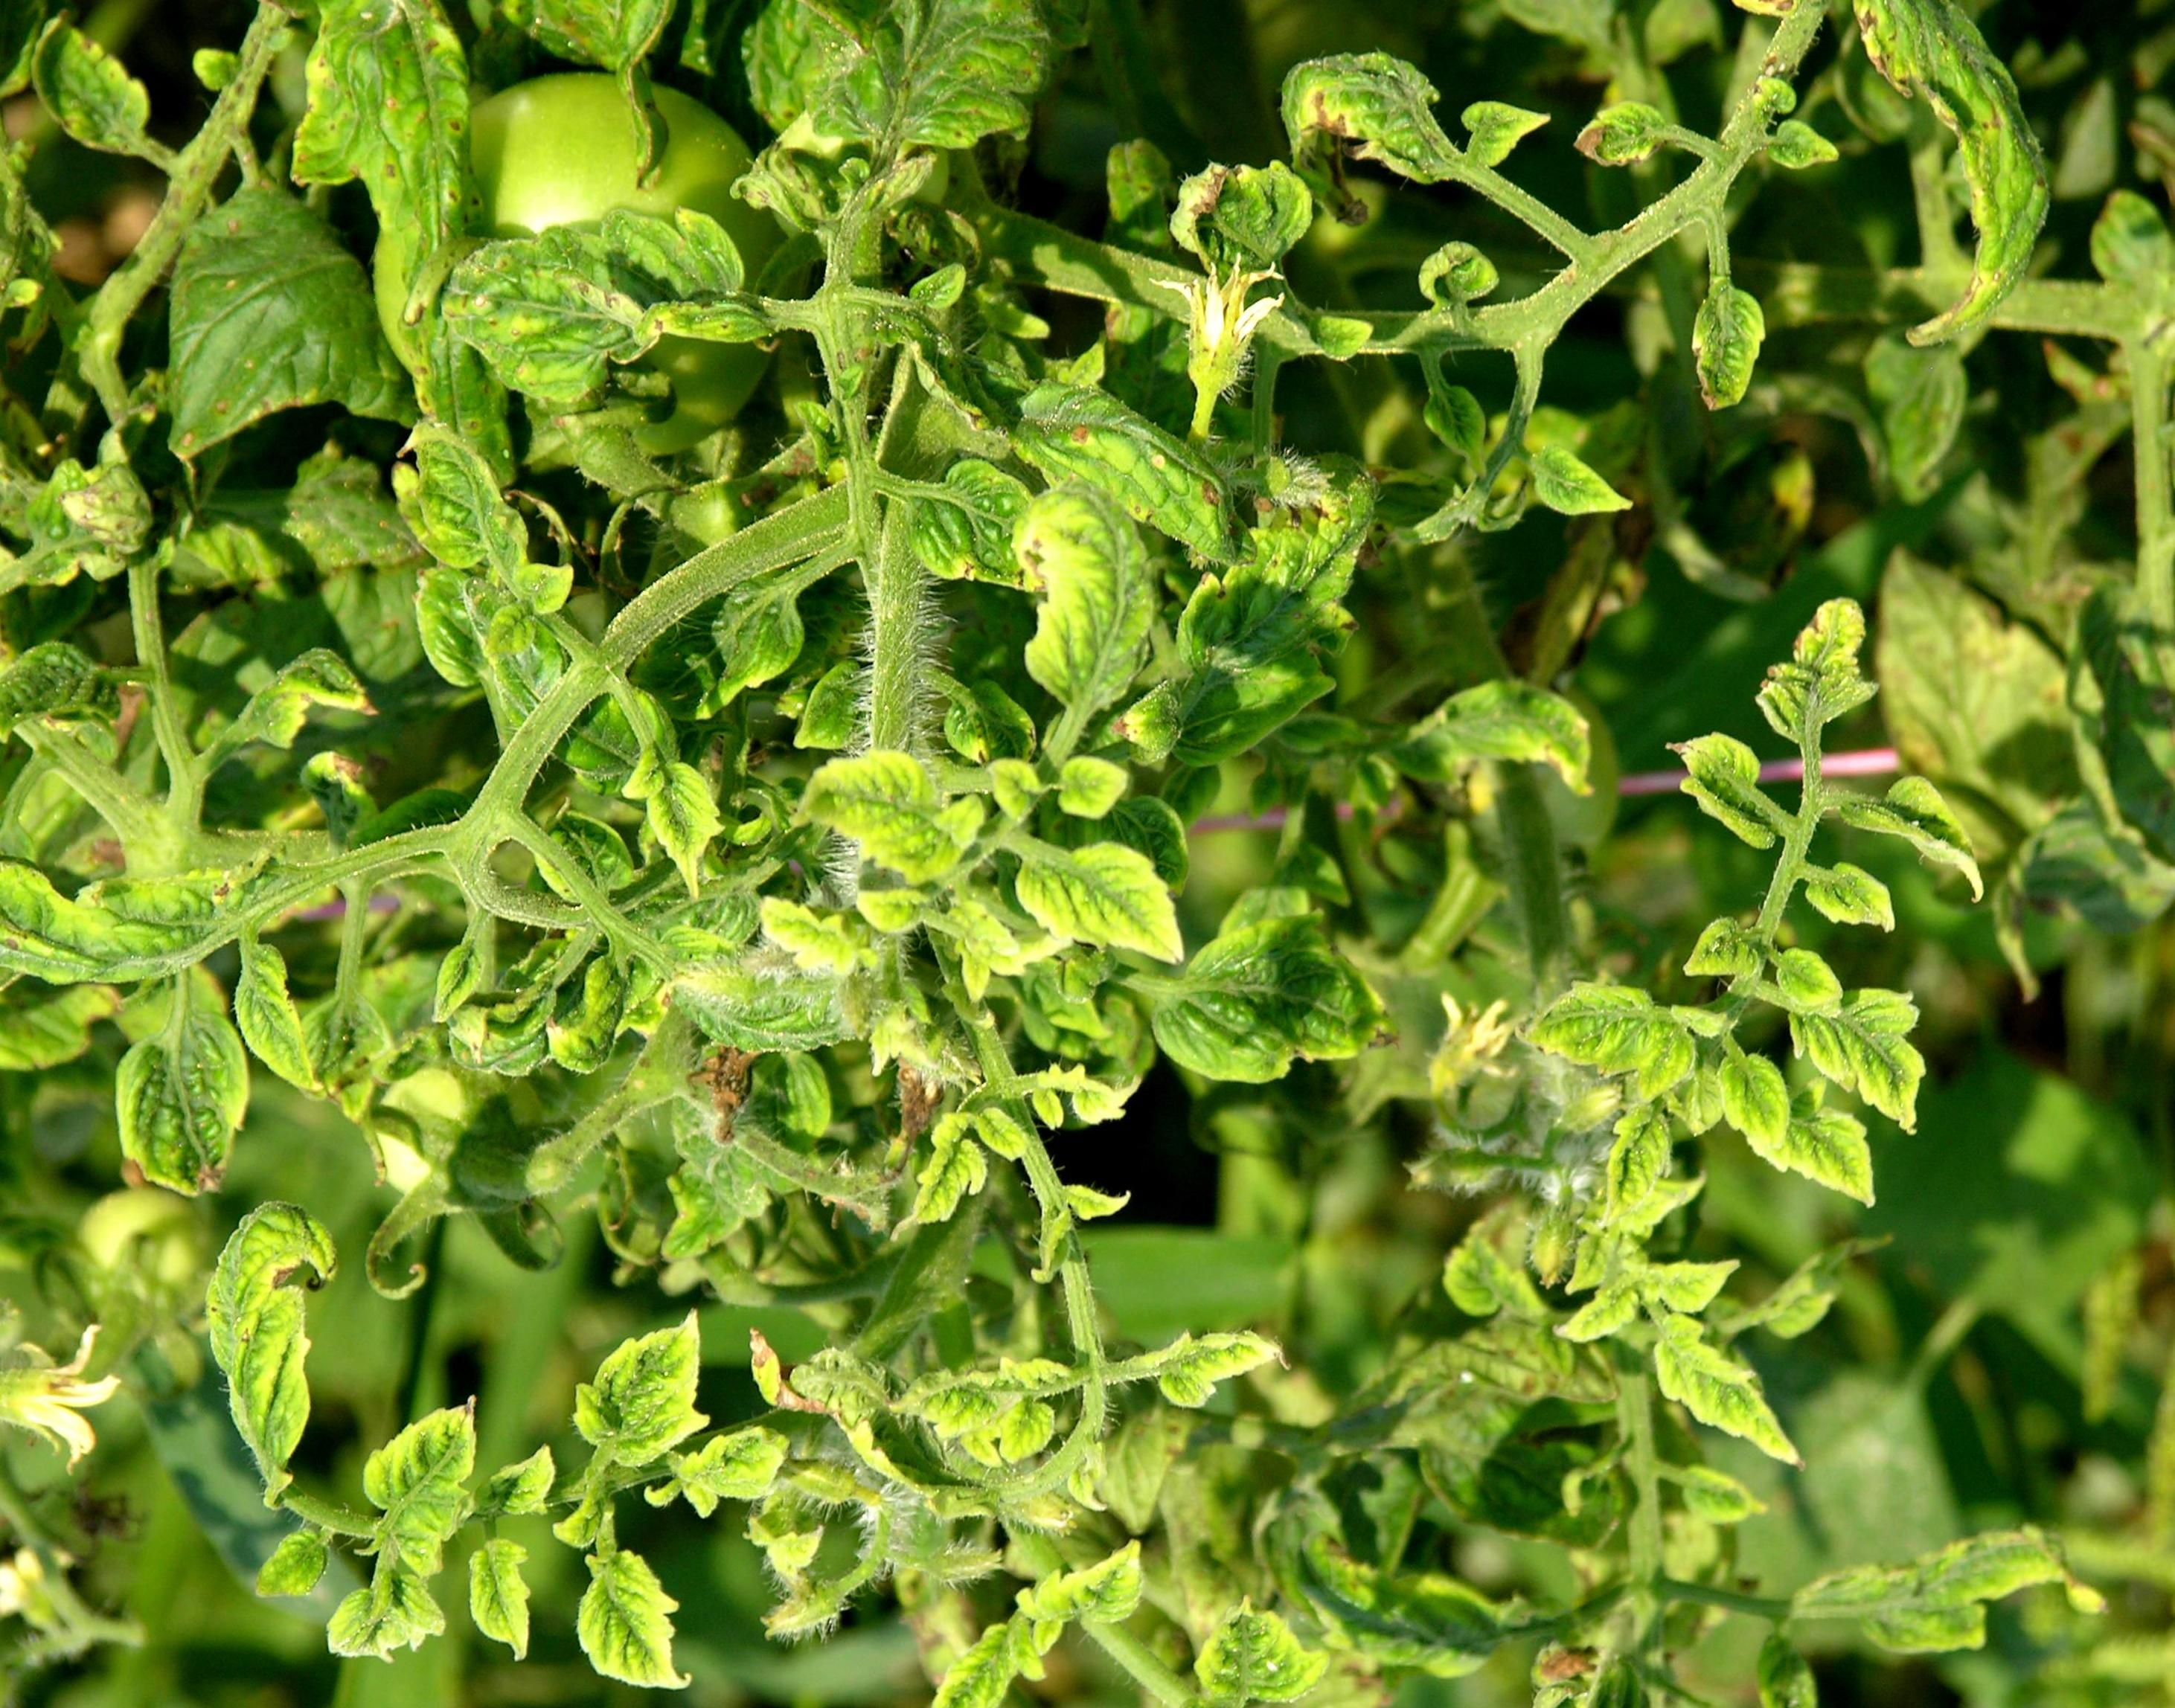Tomato leaf yellow virus: (344, 180, 803, 411), (1838, 0, 2117, 295), (254, 0, 475, 288), (1128, 888, 1439, 1090), (771, 727, 1063, 930), (1017, 360, 1262, 586), (369, 356, 556, 644), (196, 1182, 342, 1486), (1259, 30, 1494, 219), (1755, 903, 1940, 1124), (330, 1371, 501, 1607), (1001, 819, 1206, 1000), (1006, 480, 1162, 713), (567, 1272, 734, 1484), (109, 978, 256, 1196), (1720, 575, 1889, 750), (1624, 1318, 1810, 1475), (542, 1537, 703, 1708), (893, 1366, 1107, 1473), (1188, 1583, 1363, 1708), (1140, 1290, 1303, 1415), (1741, 1097, 1878, 1205), (1038, 1514, 1155, 1634)
